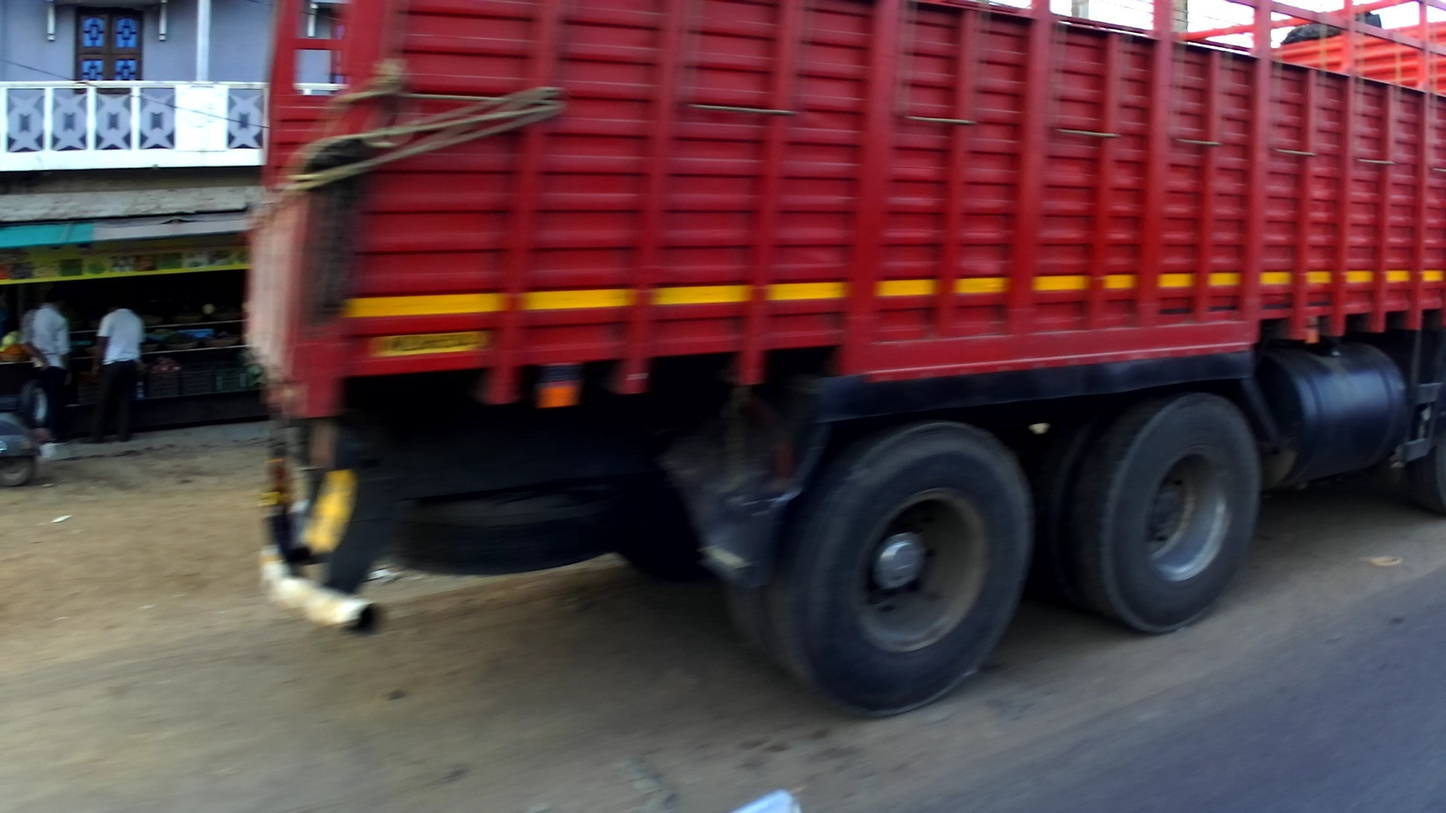motorcycle: (1, 380, 49, 486)
person: (19, 287, 74, 446), (86, 292, 143, 445)
truck: (239, 1, 1446, 722)
